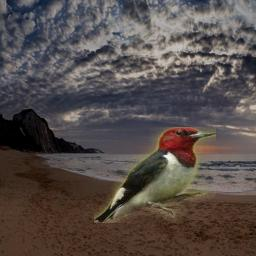Woodpecker: (94, 127, 216, 223)
